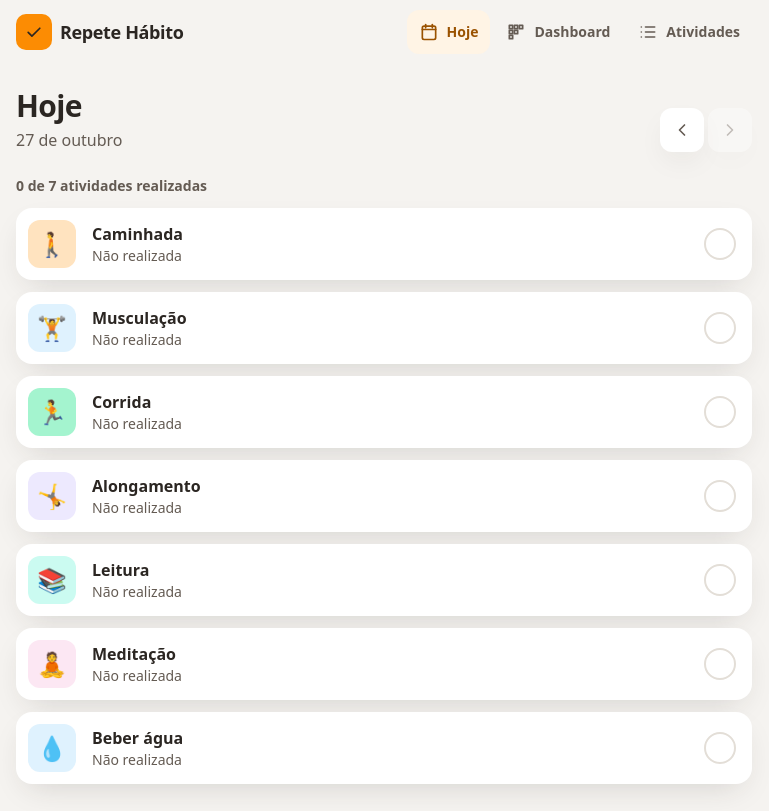
it: TodayView › navega para o dia anterior e volta para hoje
Click the link named "Dia anterior, 26 de outubro" at (682, 130), box [660,108,704,152]
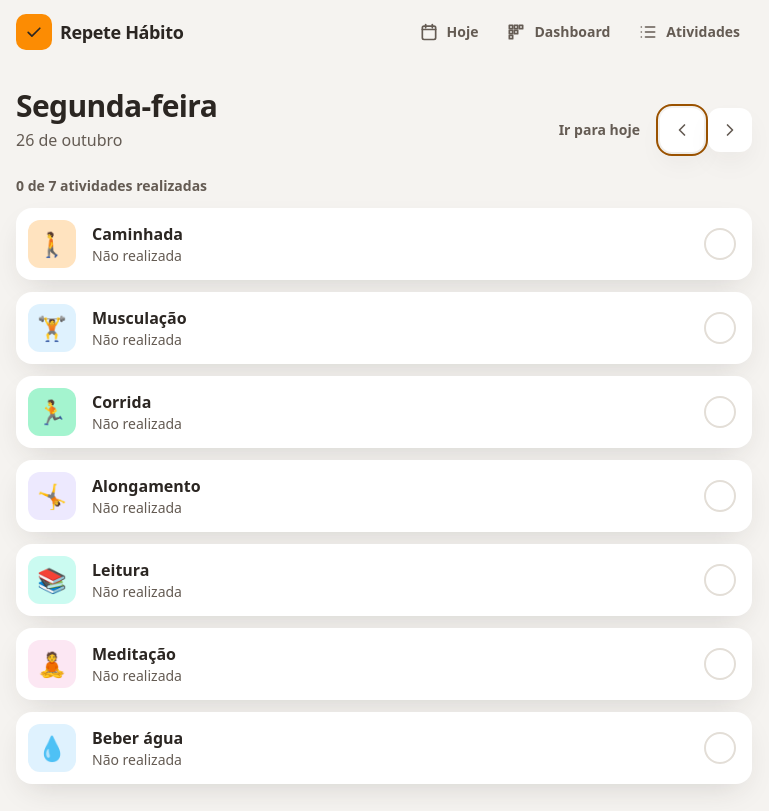
expect the heading "Segunda-feira" is shown: met, box [16,88,217,124]
Click the link named "Próximo dia, 27 de outubro" at (730, 130), box [708,108,752,152]
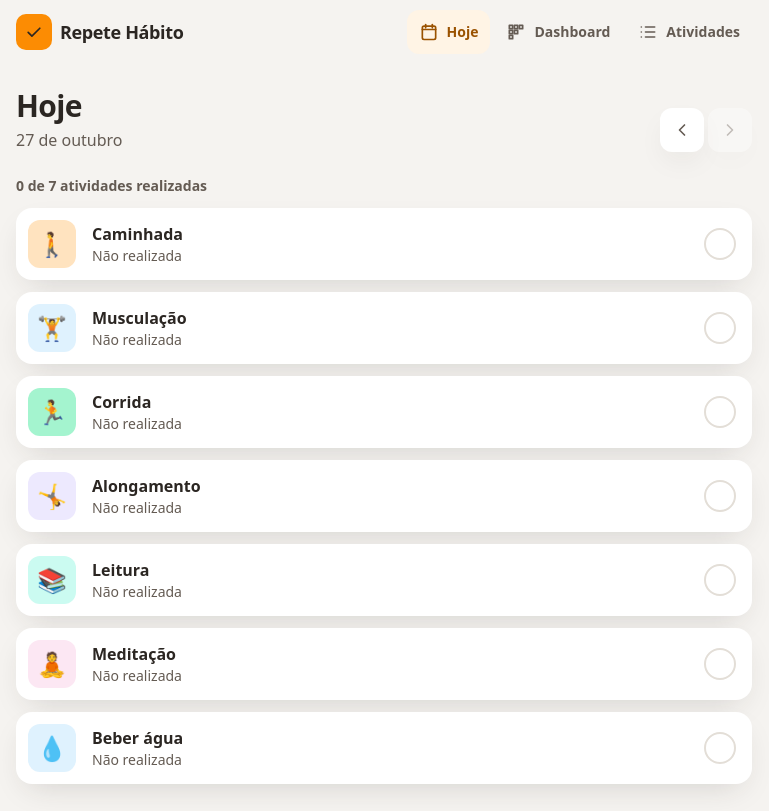
expect the heading "Hoje" is shown: met, box [16,85,82,126]
